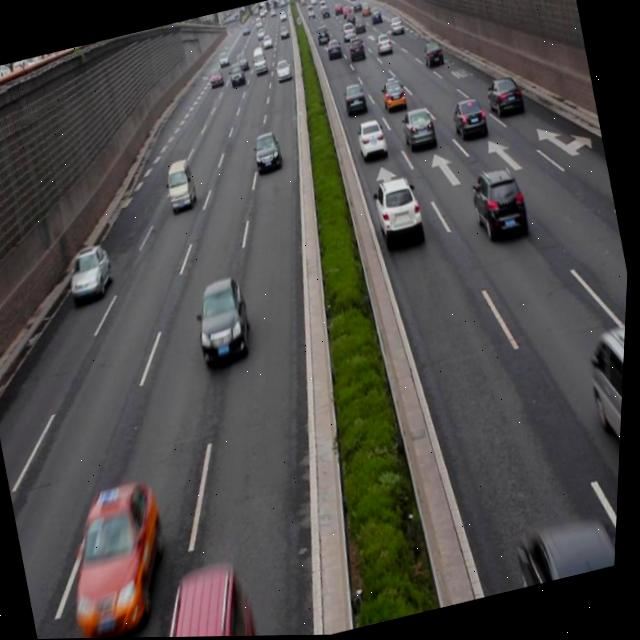car: (54, 478, 186, 639), (514, 506, 622, 589), (578, 322, 629, 490), (189, 272, 260, 370), (467, 163, 534, 246), (370, 174, 427, 244), (64, 241, 120, 305), (484, 75, 526, 123), (398, 106, 439, 154), (450, 96, 490, 145), (353, 116, 391, 162), (250, 130, 286, 175), (339, 79, 370, 119), (378, 77, 409, 114)
truck: (162, 156, 202, 214)
